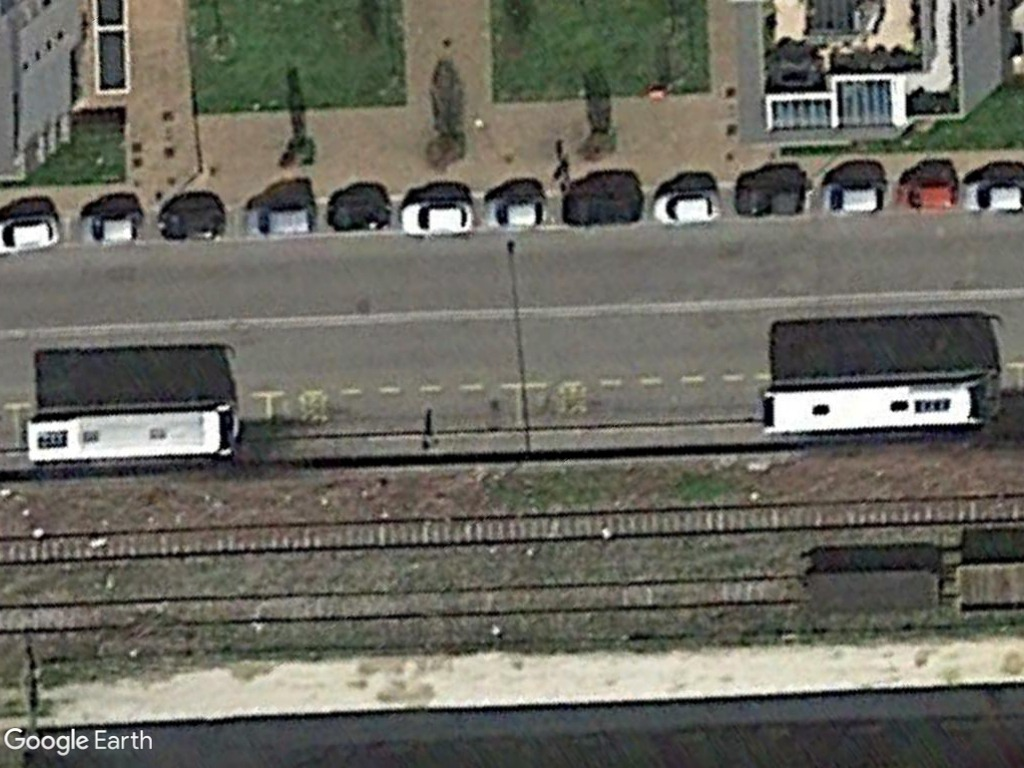bus: (757, 371, 1005, 437), (16, 404, 250, 466)
car: (395, 195, 479, 239), (241, 200, 321, 240), (648, 185, 726, 225), (893, 173, 964, 215), (76, 207, 147, 249), (958, 174, 1024, 216), (483, 192, 554, 231), (817, 178, 888, 216), (0, 210, 58, 254)
